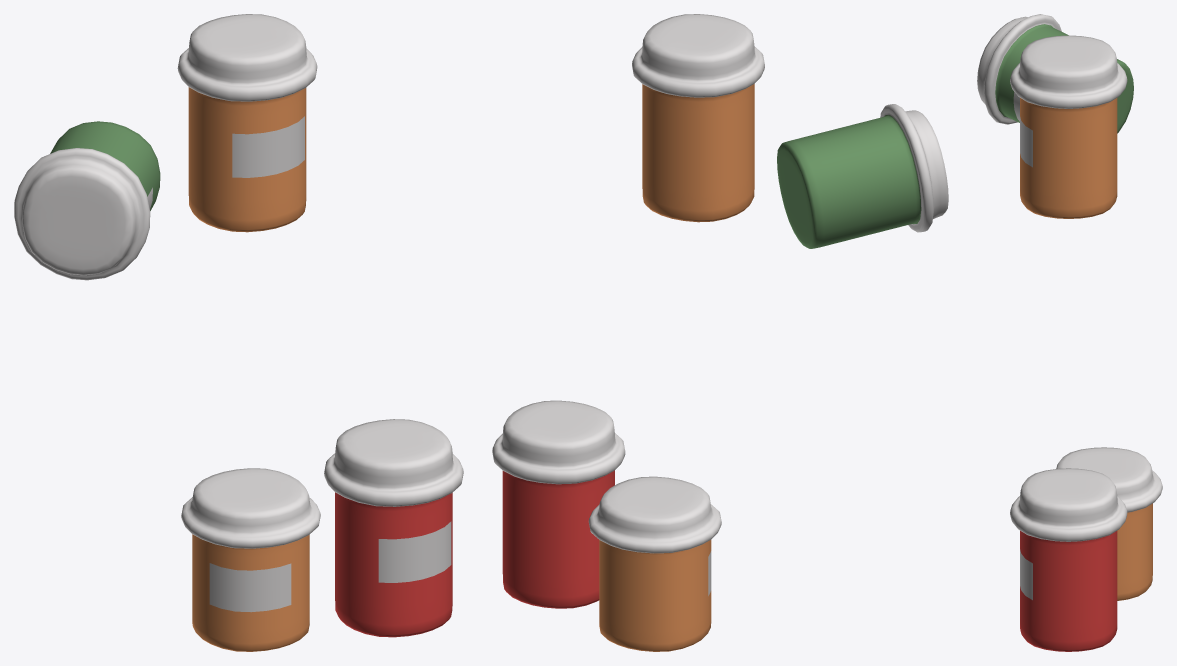
Rendered from Pill_bottles.fbx.
3 renders of one model, left to right at view 1: azimuth 30°, elevation 25°; view 2: azimuth 150°, elevation 25°; view 3: azimuth 270°, elevation 25°, orthographic. The views are drawn at different scales.
Visible parts, largest first — view 1: Pill_bottle.002, Pill_bottle.001, Pill_bottle.003, Pill_bottle.004; view 2: Pill_bottle.002, Pill_bottle.001, Pill_bottle.003, Pill_bottle.004; view 3: Pill_bottle.001, Pill_bottle.002, Pill_bottle.003, Pill_bottle.004.
Boxes of the visible parts, <box> form: Pill_bottle.002: <box>177,14,317,232</box>; Pill_bottle.001: <box>324,419,463,637</box>; Pill_bottle.003: <box>181,468,320,651</box>; Pill_bottle.004: <box>14,121,160,280</box>; Pill_bottle.002: <box>632,14,764,222</box>; Pill_bottle.001: <box>492,400,625,608</box>; Pill_bottle.003: <box>588,476,721,651</box>; Pill_bottle.004: <box>777,104,948,248</box>; Pill_bottle.001: <box>1010,468,1127,651</box>; Pill_bottle.002: <box>1010,35,1127,218</box>; Pill_bottle.003: <box>1056,447,1162,600</box>; Pill_bottle.004: <box>977,14,1133,133</box>.
Bounding box in the file's own units: 43.48 × 56.82 × 18.43.
